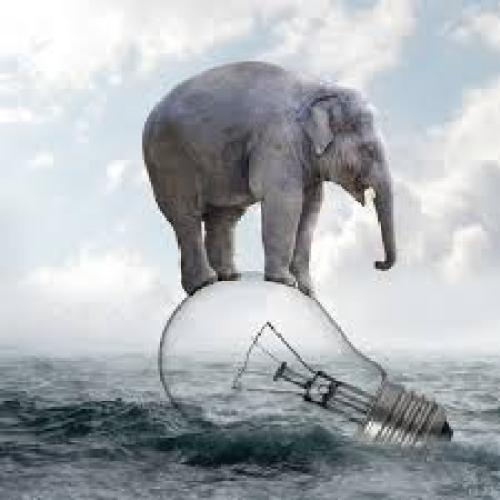asian_elephant-endangered: (143, 67, 402, 292)
